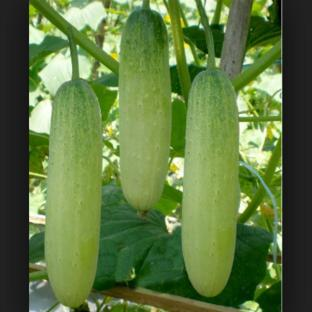Cucumber: (182, 69, 240, 297), (45, 81, 102, 307), (119, 9, 171, 210)
